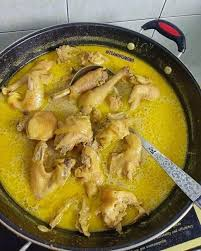Opor ayam: (0, 44, 194, 235)
